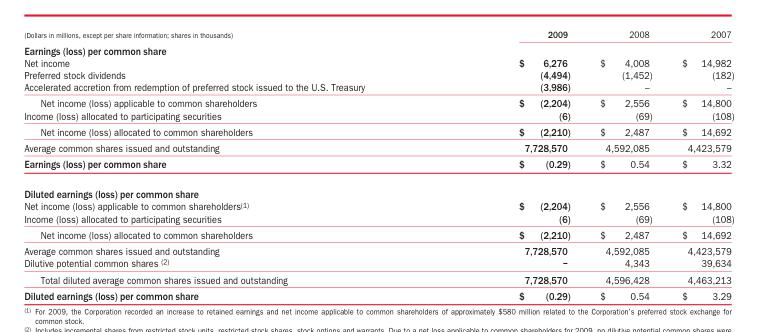table: (23, 28, 733, 301)
table column: (23, 28, 441, 301), (441, 28, 584, 301), (584, 28, 666, 301), (666, 28, 733, 301)
table column header: (23, 28, 733, 41)
table projected row header: (23, 178, 733, 199), (23, 41, 733, 56)
table row: (23, 155, 733, 178), (23, 178, 733, 199), (23, 123, 733, 139), (23, 139, 733, 155), (23, 226, 733, 242), (23, 271, 733, 287), (23, 41, 733, 56), (23, 94, 733, 109), (23, 256, 733, 271), (23, 80, 733, 94), (23, 109, 733, 123), (23, 212, 733, 226), (23, 242, 733, 256), (23, 287, 733, 301), (23, 28, 733, 41), (23, 199, 733, 212), (23, 56, 733, 68), (23, 68, 733, 80)
